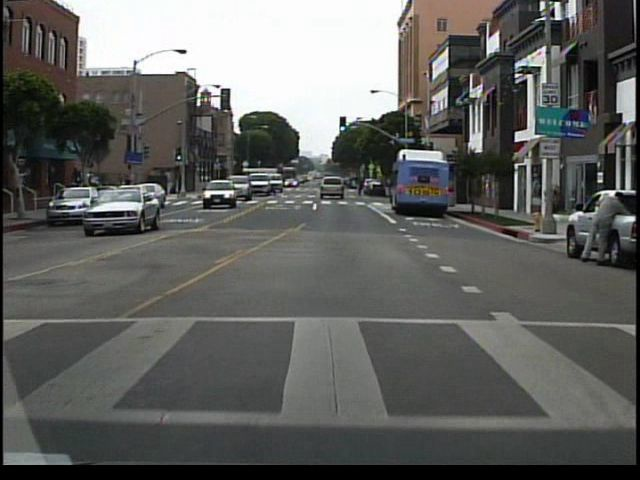person: (574, 184, 629, 266)
